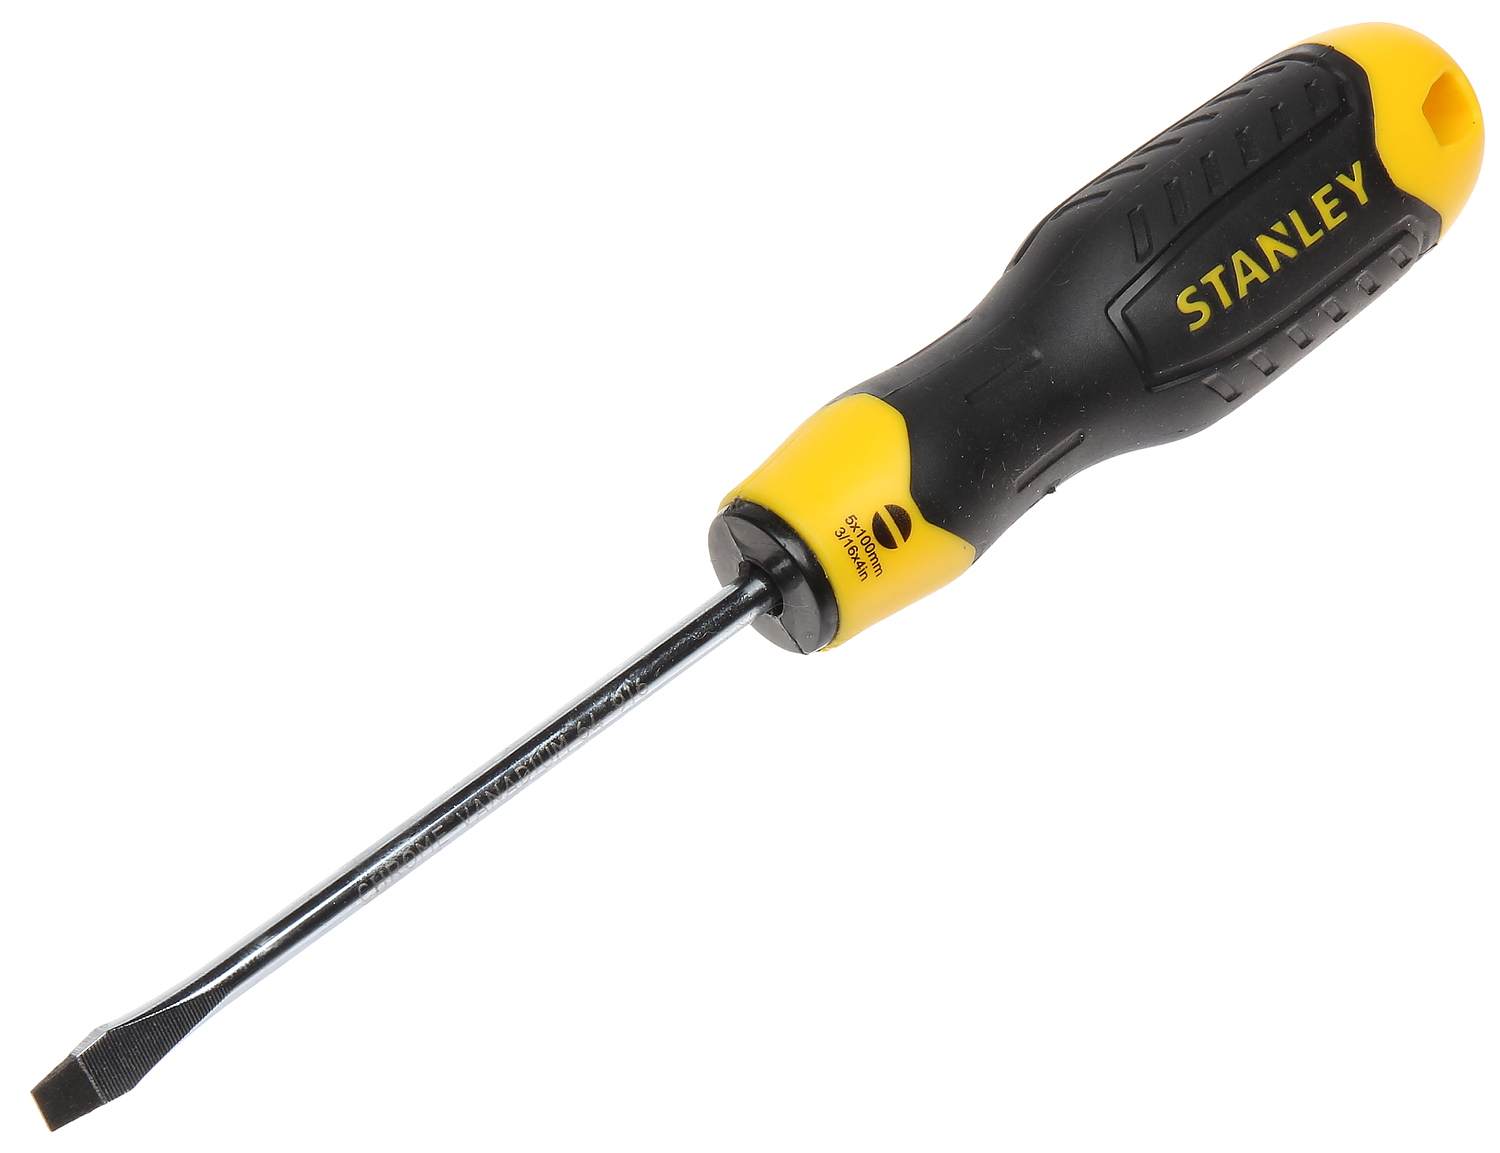screwdriver: (28, 23, 1487, 1134)
